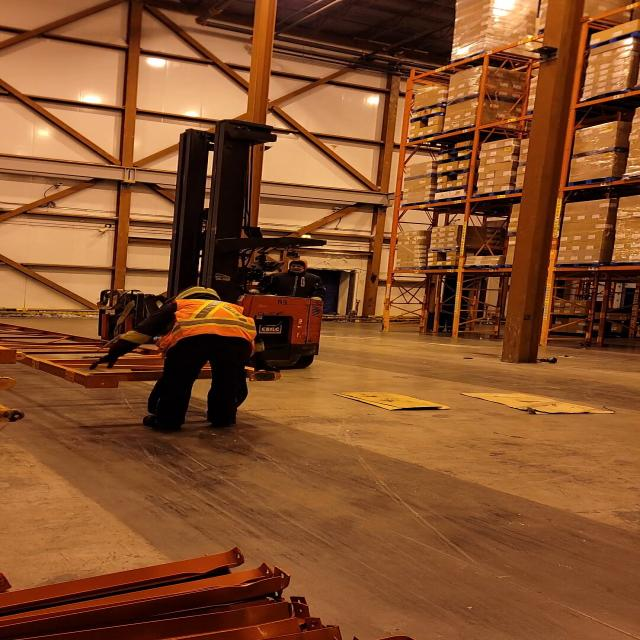forklift: (78, 128, 327, 374)
human: (89, 284, 258, 431), (256, 256, 338, 306)
objectofinterest: (2, 323, 286, 391), (458, 390, 616, 415), (332, 389, 458, 415)
